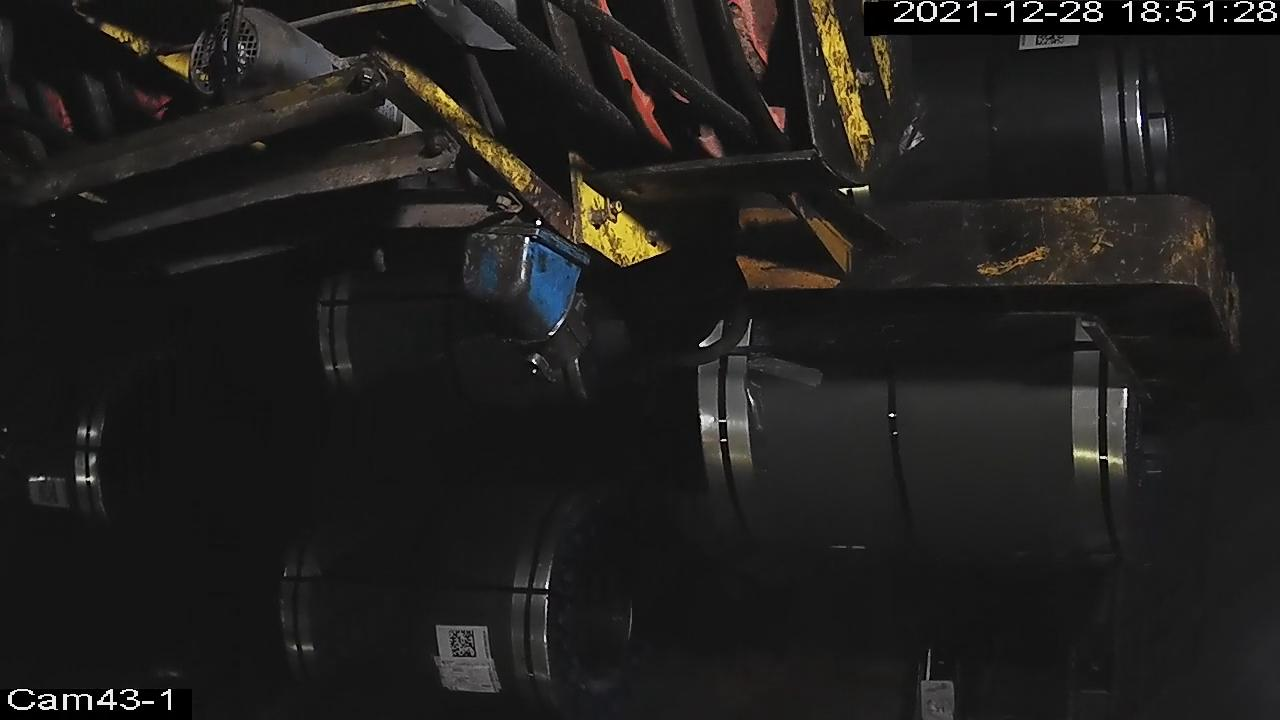data matrix: (446, 627, 481, 661)
